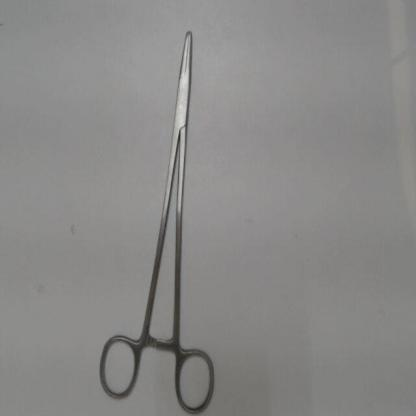8 Mayo Needle Holder: (90, 23, 222, 414)
